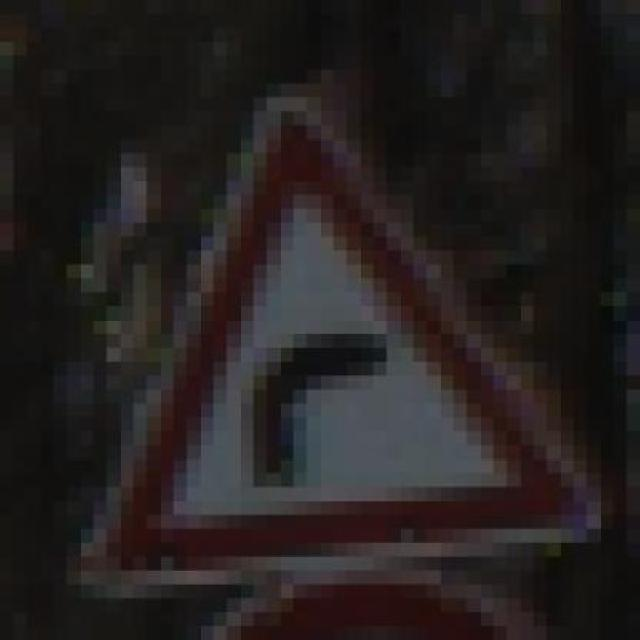Dangerous Rright Curve Ahead: (40, 69, 600, 585)
